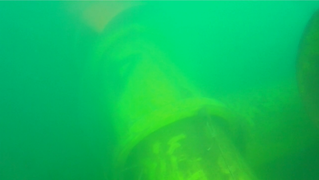4: (107, 52, 138, 99)
leak: (77, 1, 125, 31)
pipe: (87, 23, 258, 179), (221, 78, 319, 166), (295, 7, 319, 130)
